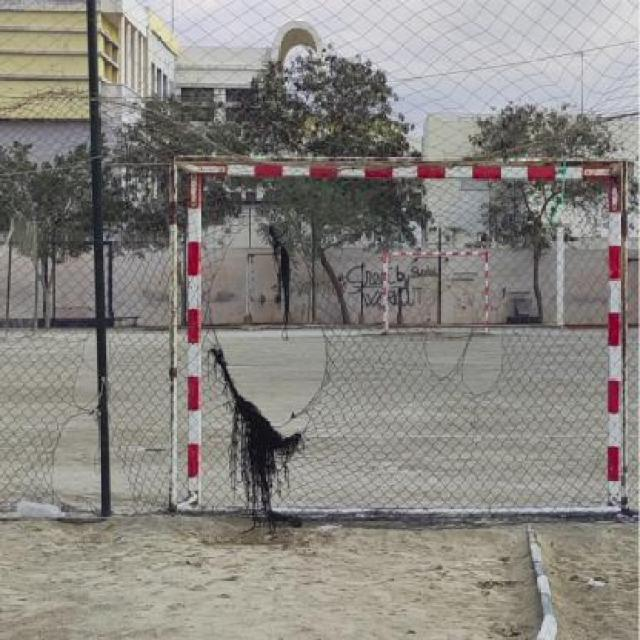fence line: (208, 214, 337, 434), (420, 277, 511, 398), (51, 416, 146, 515), (66, 322, 117, 408)
